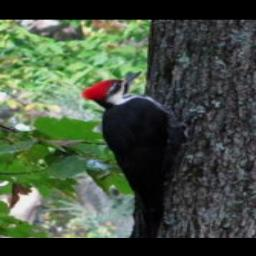Woodpecker: (77, 70, 204, 237)
